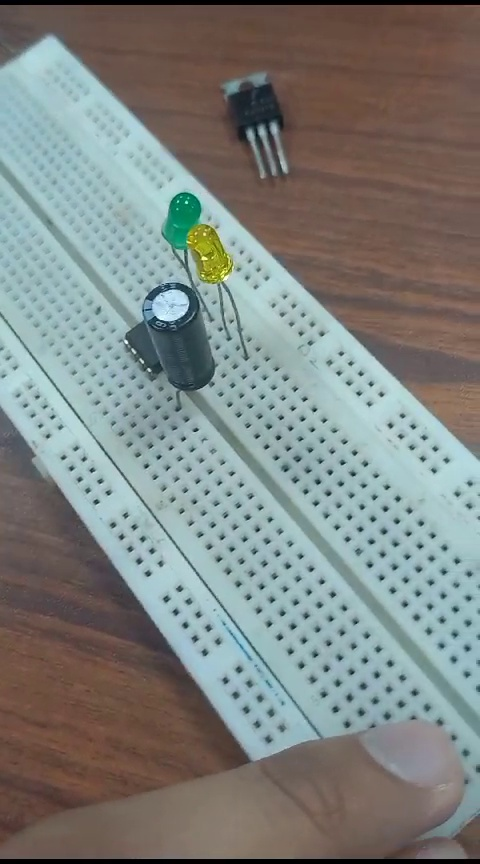IC: (104, 323, 170, 385)
LED: (183, 221, 239, 297), (156, 185, 200, 279)
capacitor: (142, 280, 219, 383)
voltage regulator: (212, 72, 303, 200)
